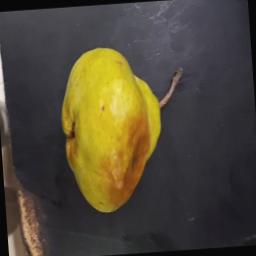Pear Rotten: (46, 30, 198, 222)
